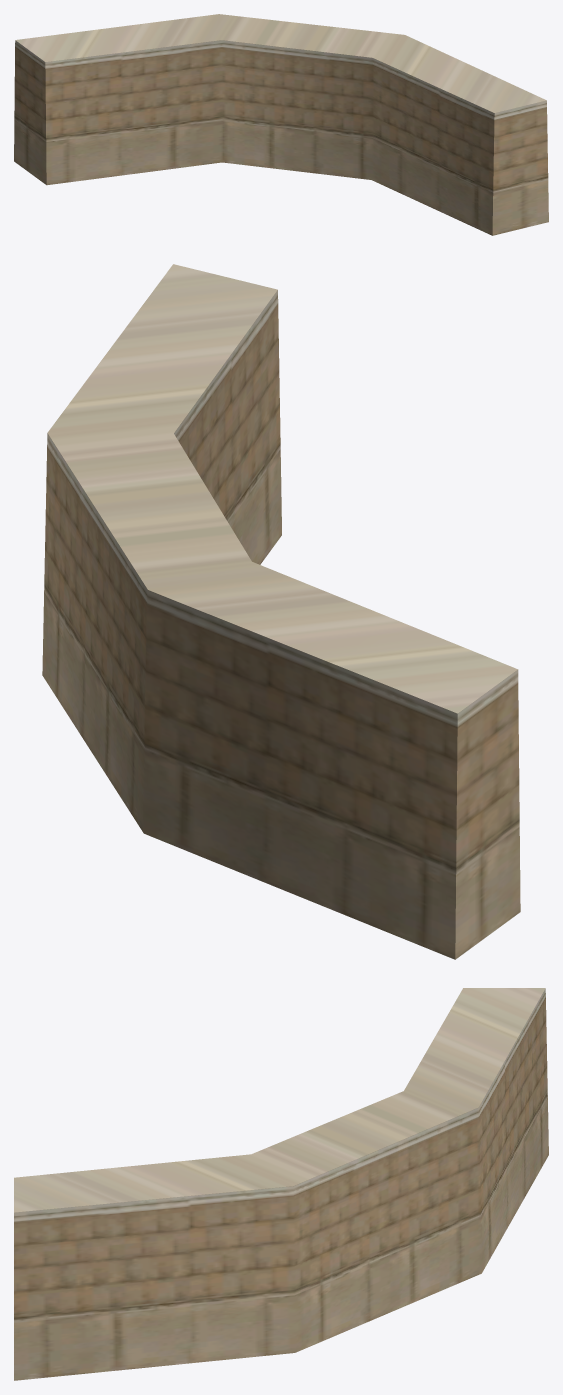
The model's file is thm_nboo_imprv_tall_curved_wall_large_s01_l3.fbx.
The picture shows the model from 3 angles, top to bottom: view 1: azimuth 30°, elevation 25°; view 2: azimuth 150°, elevation 25°; view 3: azimuth 270°, elevation 25°; orthographic projection. The views are drawn at different scales.
Visible parts, largest first — view 1: mesh_node; view 2: mesh_node; view 3: mesh_node.
Boxes of the visible parts, <box> form: mesh_node: <box>14,14,548,235</box>; mesh_node: <box>42,264,520,959</box>; mesh_node: <box>14,988,548,1380</box>.
Size of the model in its own units: 8.72 by 3.01 by 8.73.
1 material, 1 textured.
